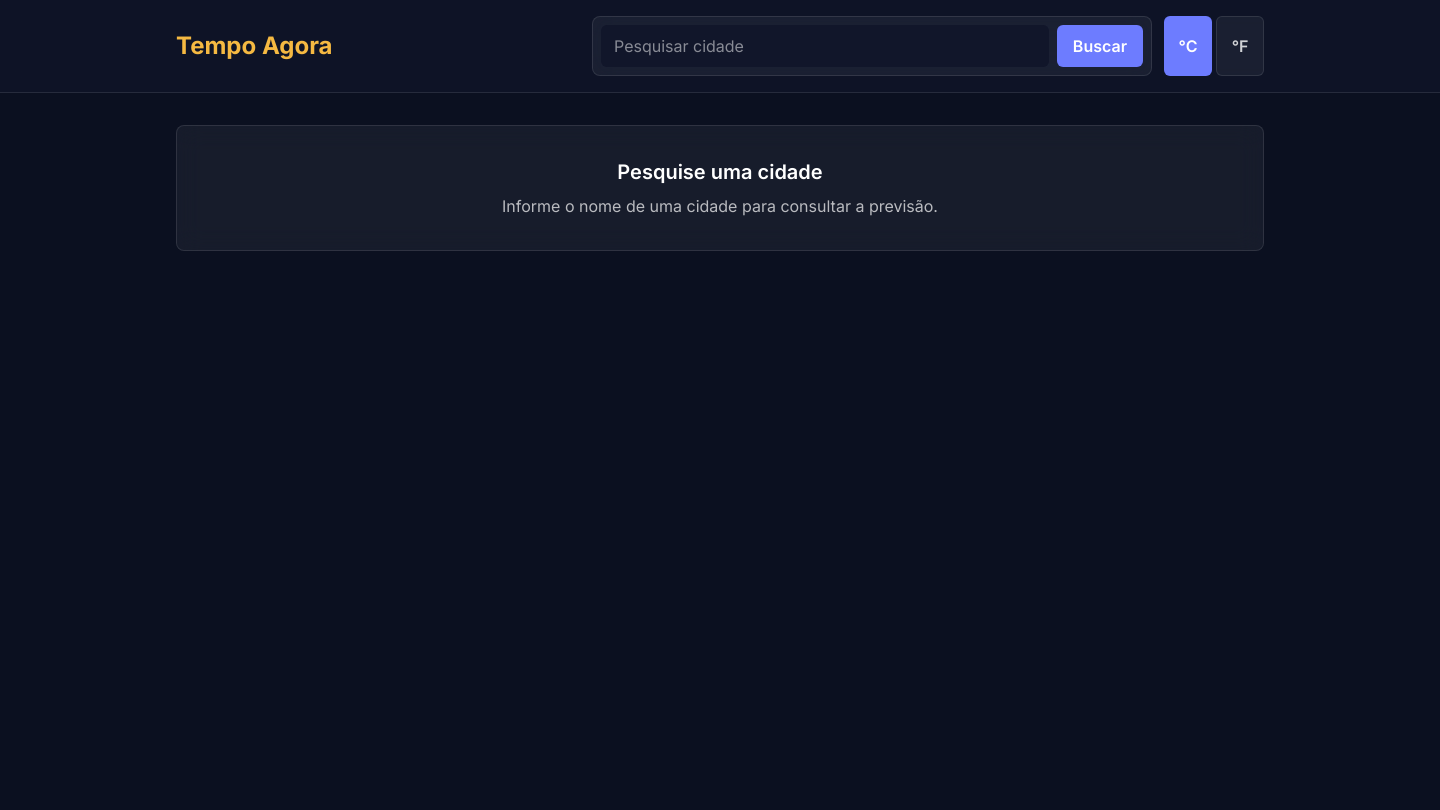
Scenario: App › exibe dados retornados pelo service após uma busca válida
Type "São Paulo" into the search field labelled "Pesquisar cidade". click: point(825, 46)
box: [601,25,1049,67]
Then press Enter
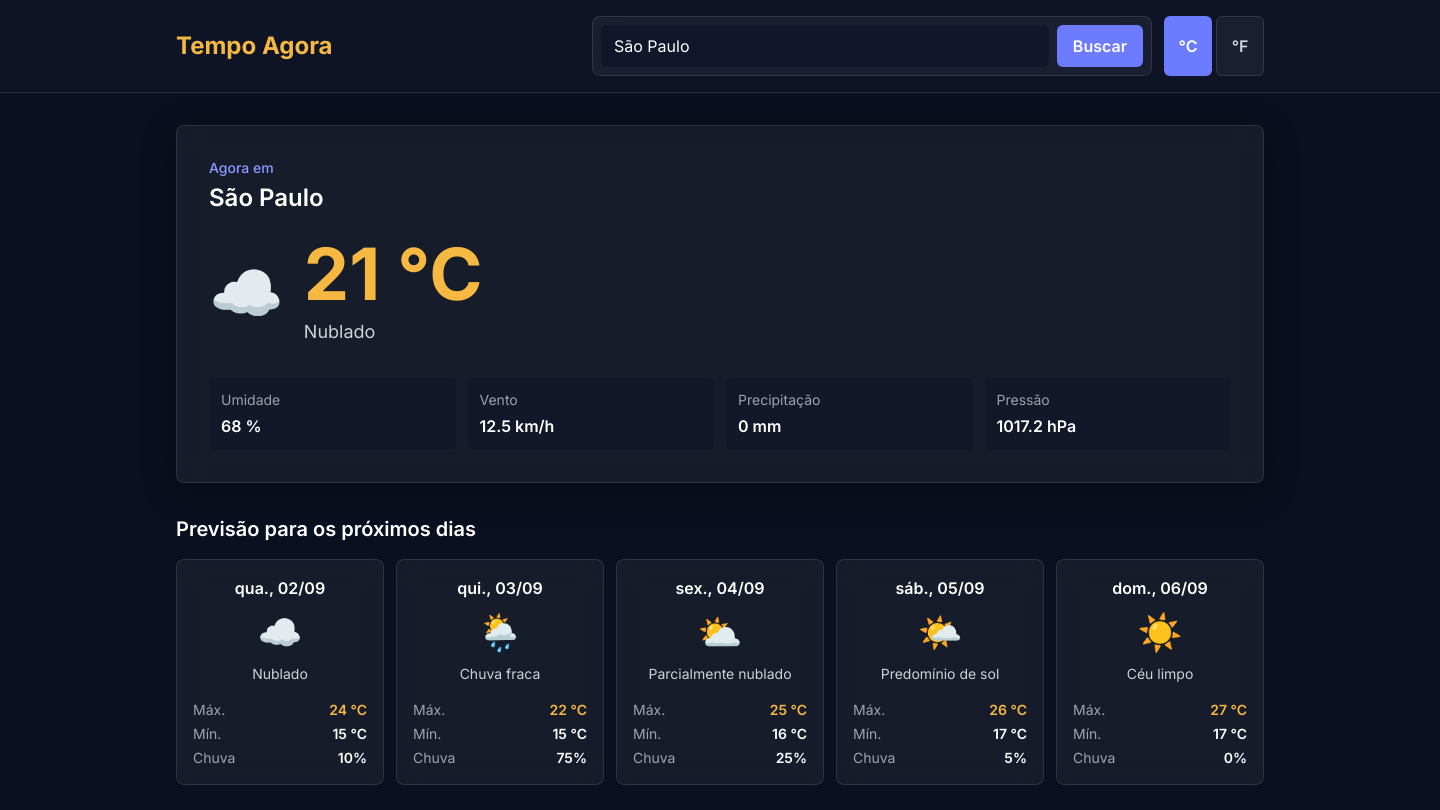
Check: the heading "São Paulo" is shown, box [209,183,324,212]
